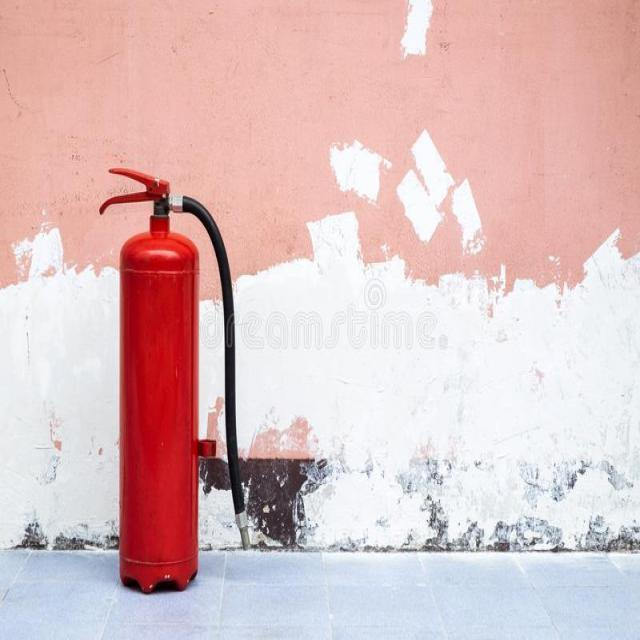fire_extinguisher: (96, 164, 253, 596)
